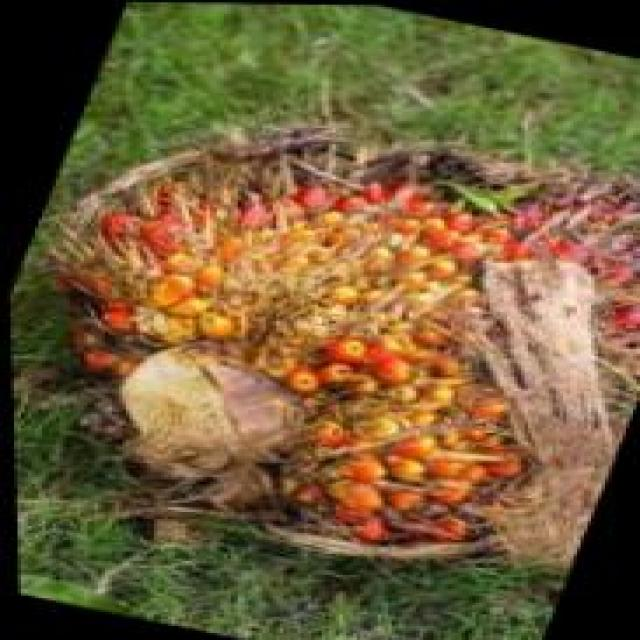Ripefruit: (3, 75, 640, 580)
